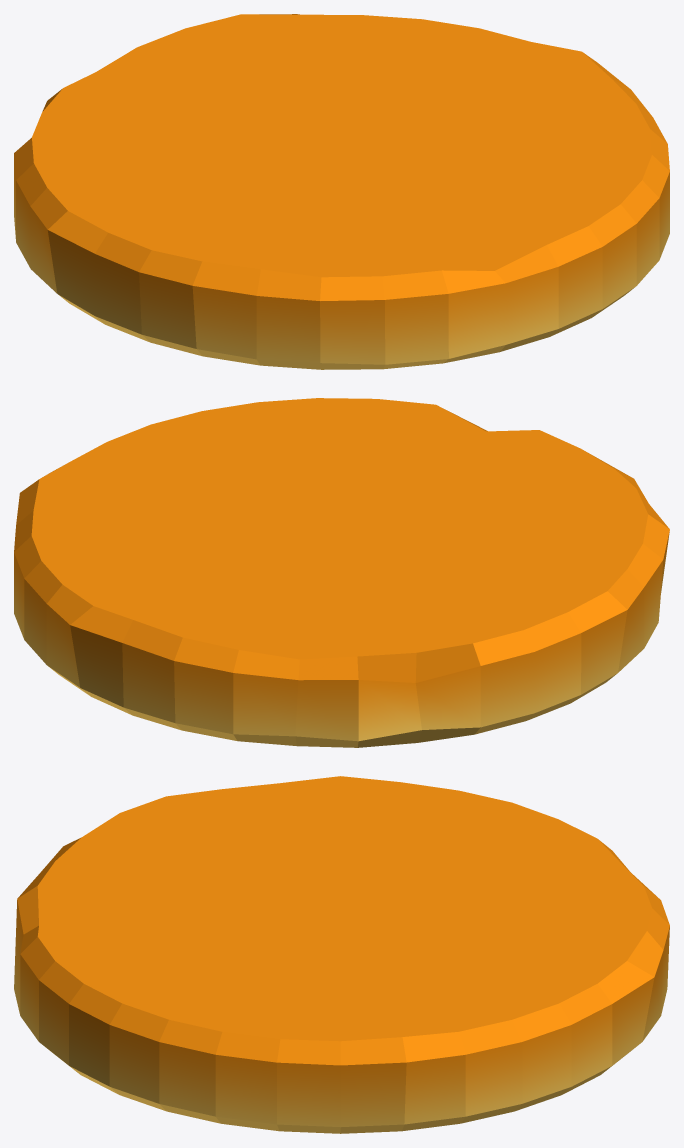
Rendered from pancake.fbx.
The picture shows the model from 3 angles, top to bottom: view 1: azimuth 30°, elevation 25°; view 2: azimuth 150°, elevation 25°; view 3: azimuth 270°, elevation 25°; orthographic projection.
Visible parts, largest first — view 1: Cube; view 2: Cube; view 3: Cube.
Part boxes in pixels (left/top/right/bottom): Cube: left=14, top=14, right=669, bottom=369; Cube: left=14, top=398, right=669, bottom=747; Cube: left=14, top=776, right=669, bottom=1133.
Size of the model in its own units: 765 by 122 by 749.
